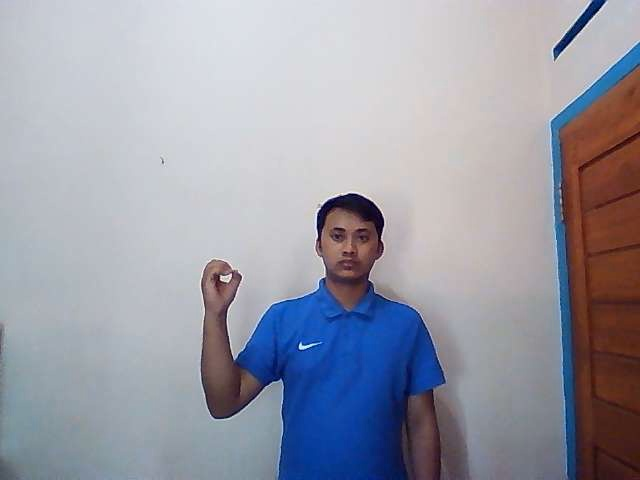O: (200, 258, 244, 310)
